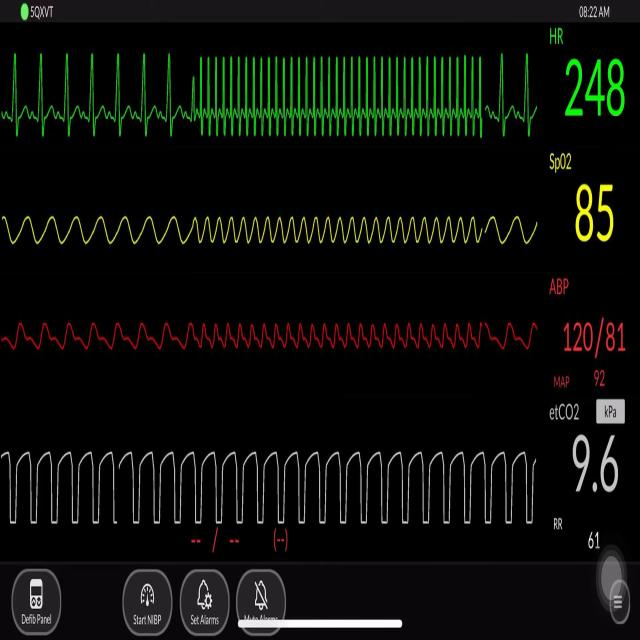danger: (196, 45, 485, 146)
